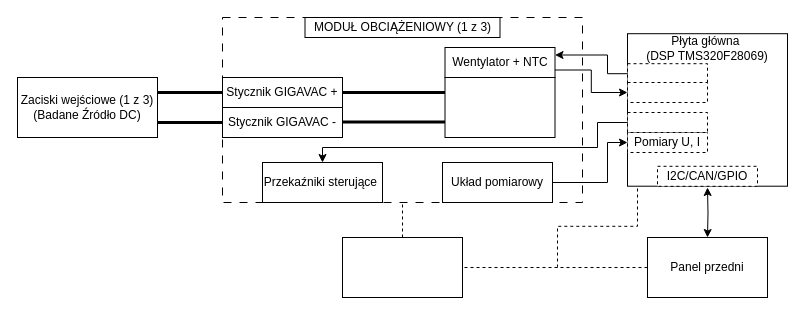
Image size: 805x315. Some labels were removed from this diagram. The box of each missing label's shape, as (x1, y1, x2, y2) in pixels:
GPIO: (626, 112, 708, 132)
PWM: (626, 63, 708, 84)
Rezystory mocy: (444, 76, 555, 138)
Temp. (ADC): (626, 82, 708, 102)
Zasilacz 24V DC: (342, 236, 462, 298)
